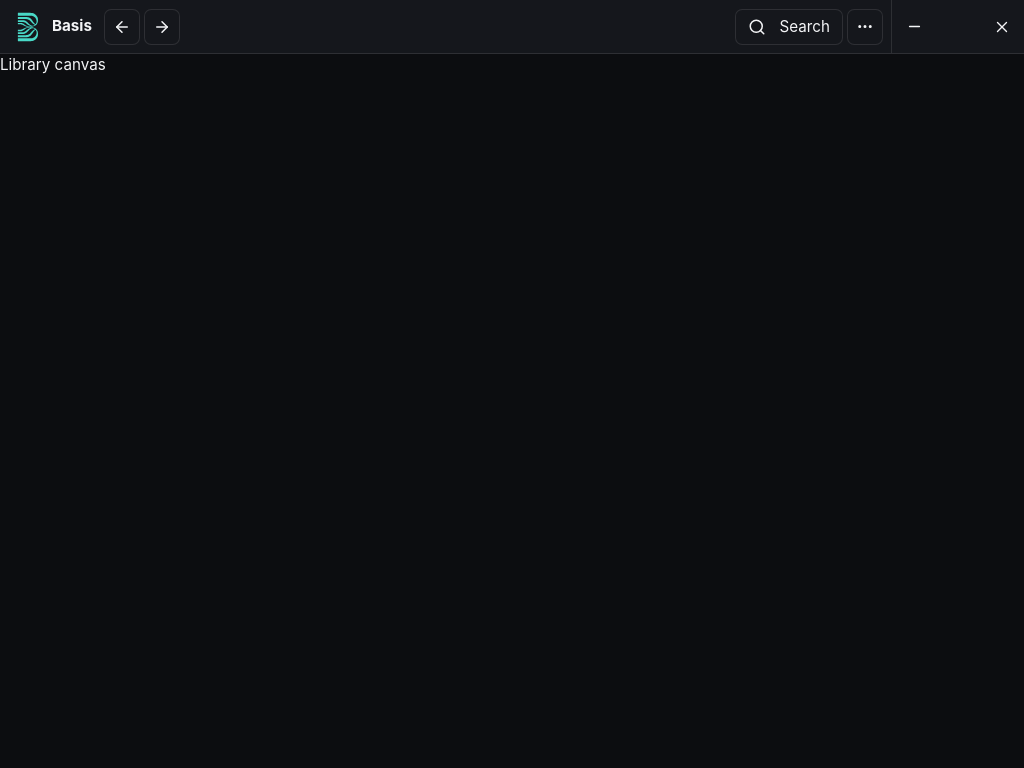
Scenario: Basis definitive shell › emphasizes command matches and supports keyboard selection
Press k
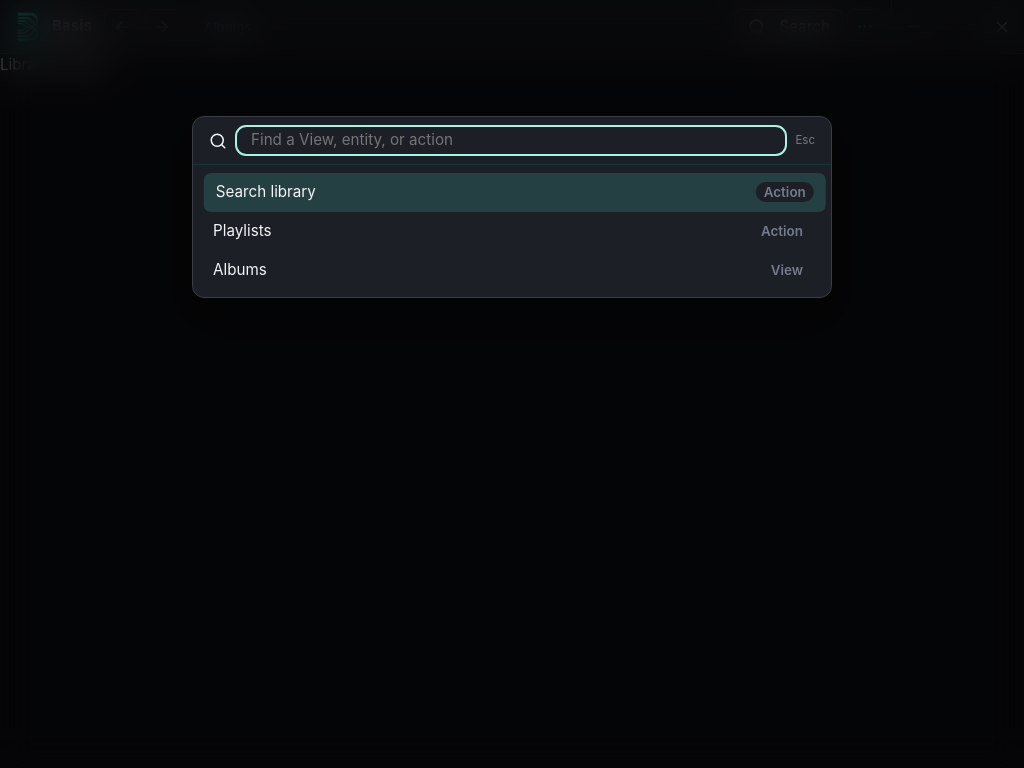
Type "alb" into the dropdown. click: {"x": 511, "y": 141}
box: x1=239 y1=129 x2=783 y2=152
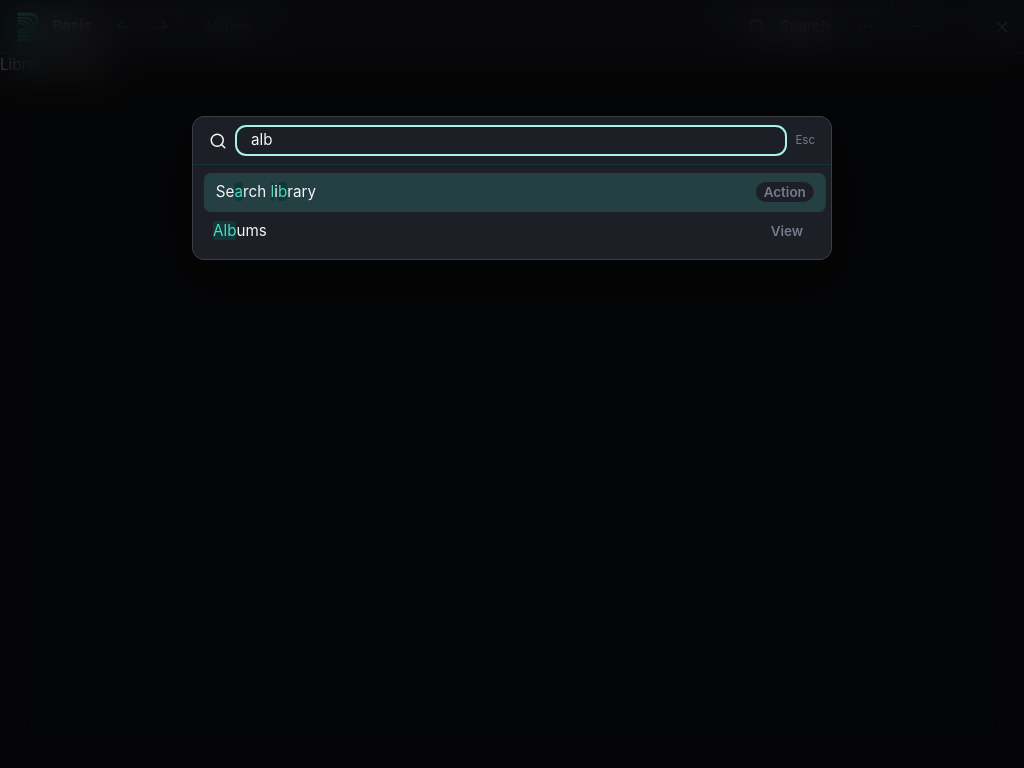
Expected: the text "Alb" is shown, x1=213 y1=221 x2=236 y2=240
Press End in the dropdown, box x1=239 y1=129 x2=783 y2=152
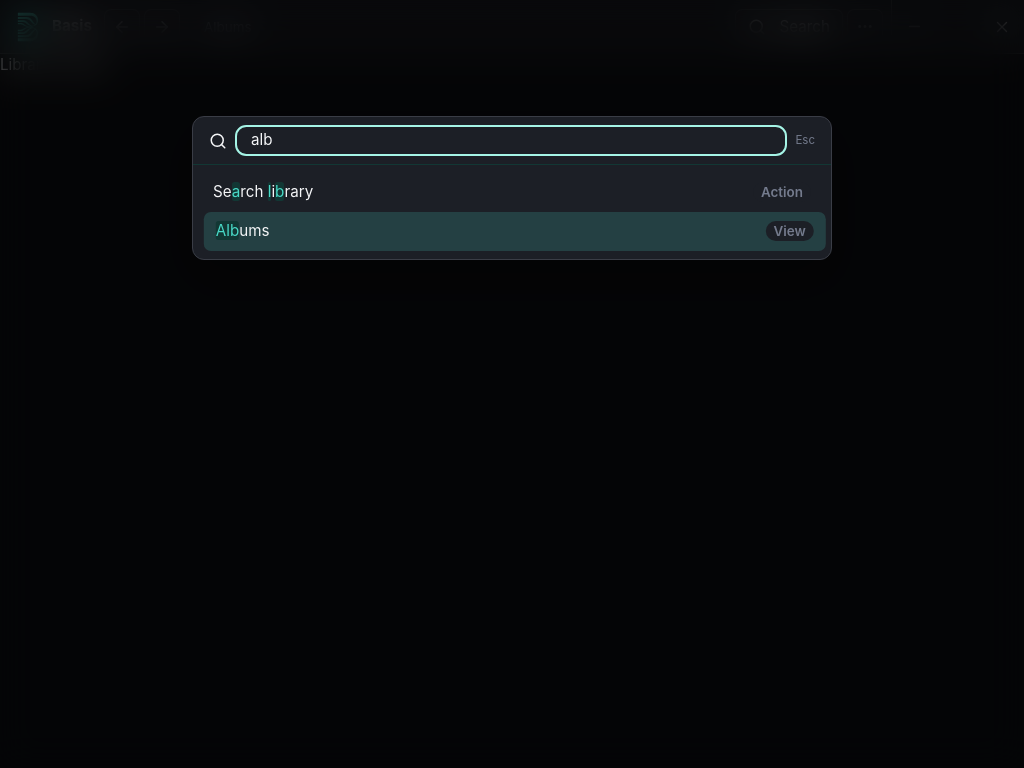
Press Enter in the dropdown, box x1=239 y1=129 x2=783 y2=152
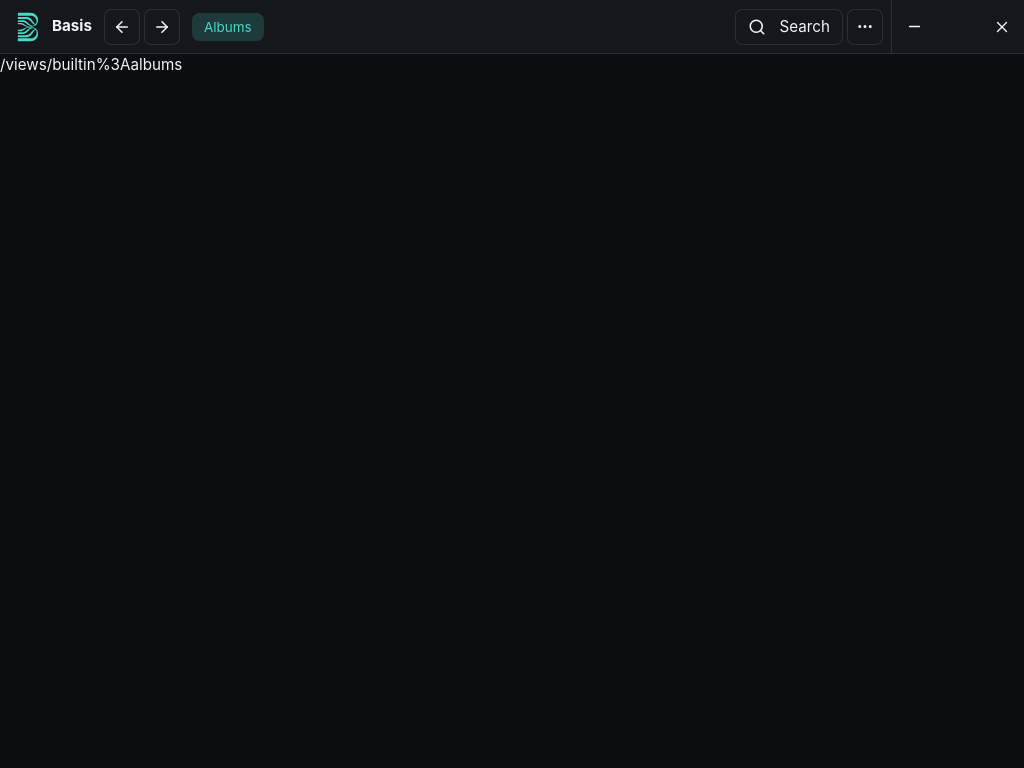
Expected: the text with test id "current-location" reads "/views/builtin%3Aalbums", x1=0 y1=55 x2=182 y2=74
